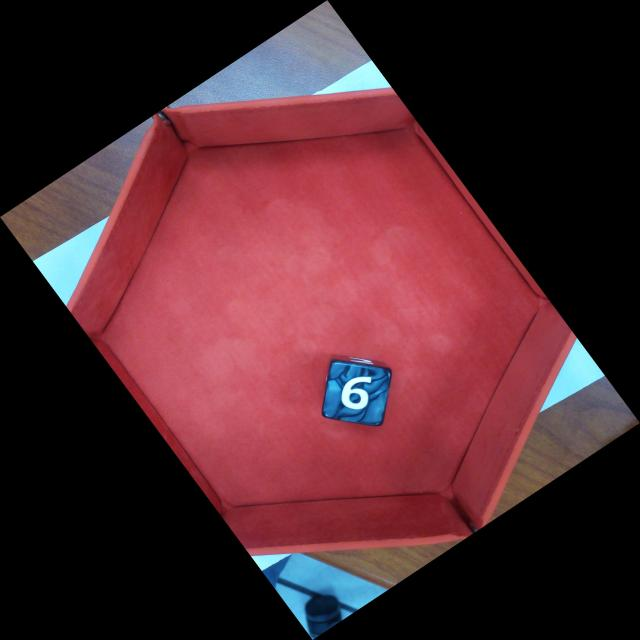dice: (328, 366, 393, 422)
